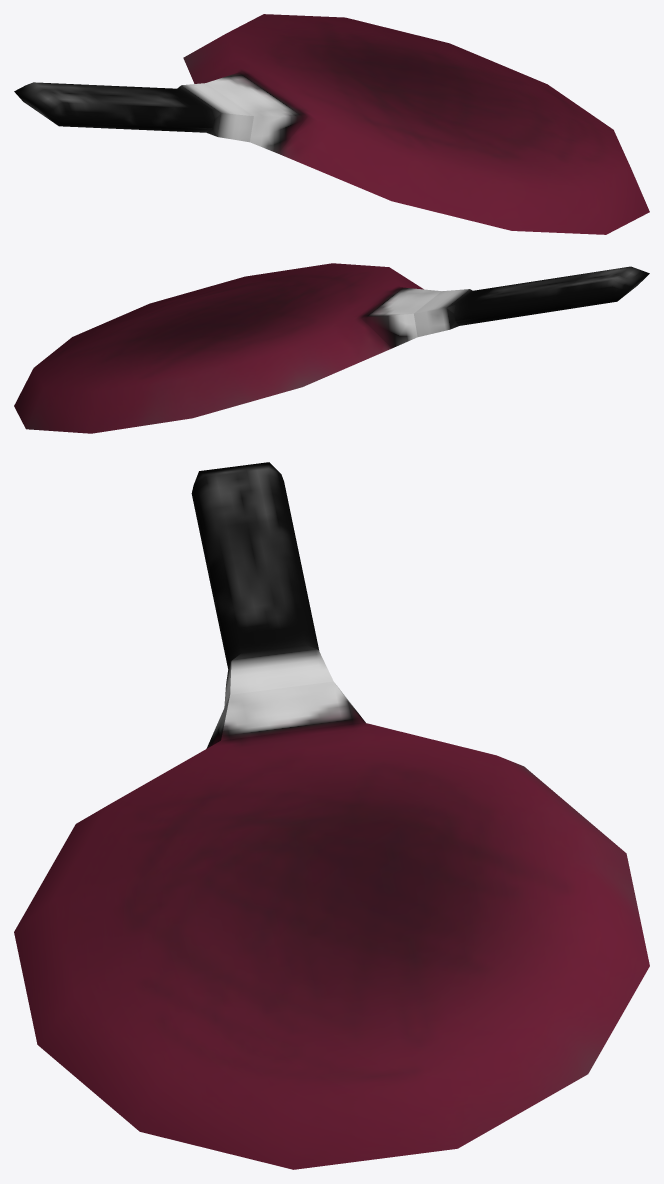
Rendered from H_FryingPanFood.fbx.
The picture shows the model from 3 angles, top to bottom: view 1: azimuth 30°, elevation 25°; view 2: azimuth 150°, elevation 25°; view 3: azimuth 270°, elevation 25°; orthographic projection. The views are drawn at different scales.
Visible parts, largest first — view 1: StirFry; view 2: StirFry; view 3: StirFry.
Boxes of the visible parts, x1,y1,x2,y2 form: StirFry: (14,14,649,234); StirFry: (14,263,649,433); StirFry: (14,462,649,1169).
Bounding box in the file's own units: 67.21 × 24.74 × 45.3.
